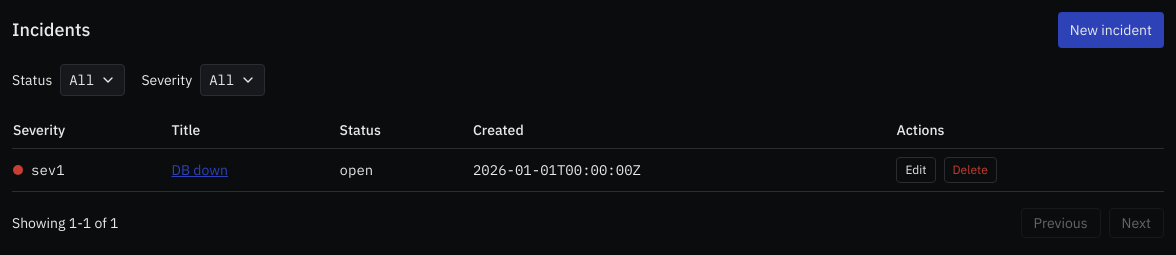
Test: IncidentsListPage › removes an incident from the list after a successful delete
The image size is (1176, 255).
Expected: the link "DB down" is shown, 172,161 -> 228,179
What coordinates should you click on to do the following:
click the button "Delete"
I would click on:
 (970, 170)
Its box is 944,157 -> 997,183.
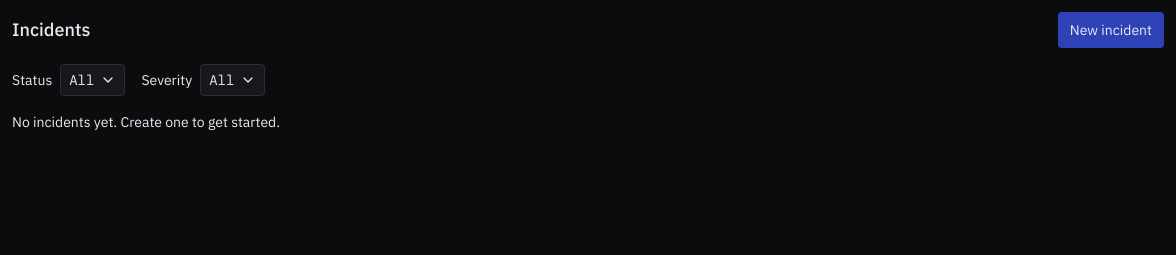
Result: the text "No incidents yet. Create one to get started." is shown at 12,113 -> 280,131
